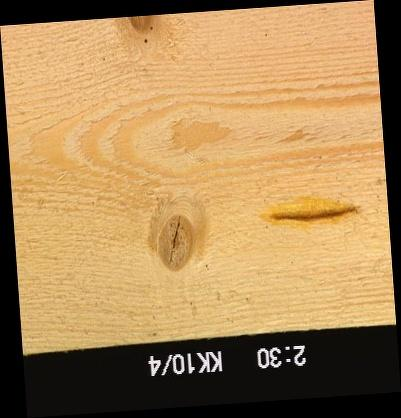edge_knot: (122, 16, 158, 46)
sound_knot: (155, 211, 196, 273)
